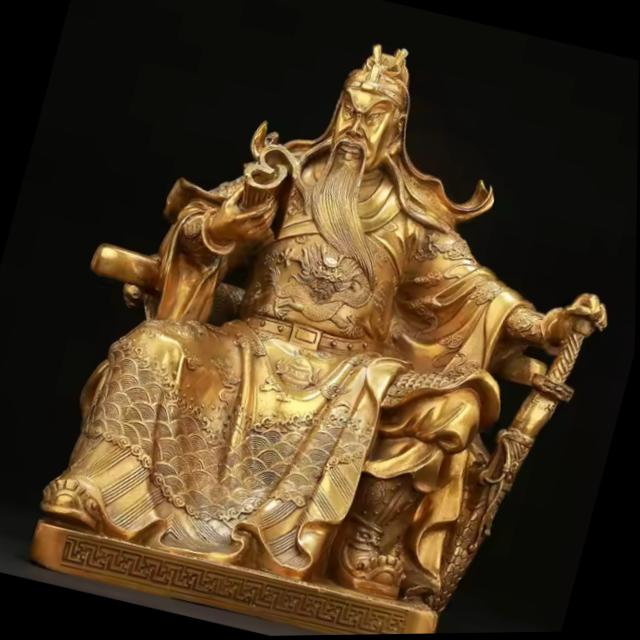Guan Yu: (75, 0, 564, 590)
